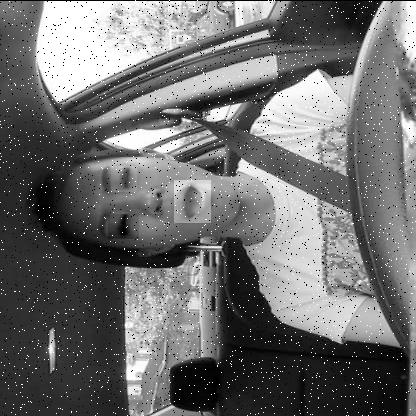seatbelt: (11, 124, 345, 272)
